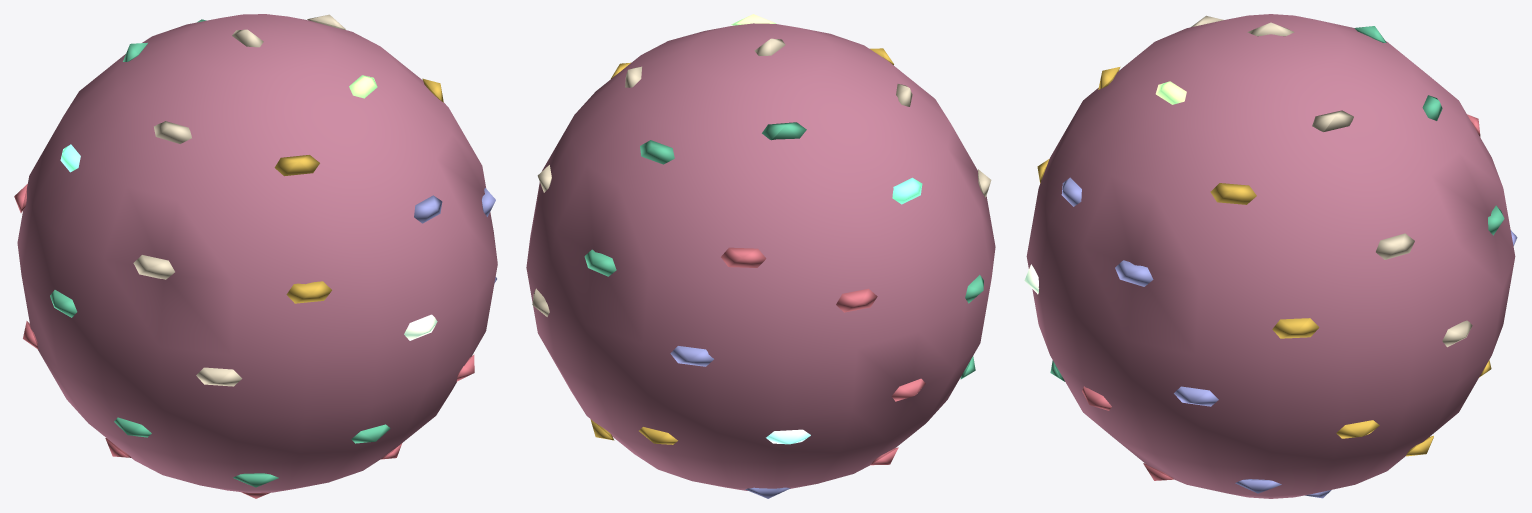
The model's file is special_sprinkle_ball.glb.
3 renders of one model, left to right at view 1: azimuth 30°, elevation 25°; view 2: azimuth 150°, elevation 25°; view 3: azimuth 270°, elevation 25°, orthographic. The views are drawn at different scales.
Parts seen in each view (by area): view 1: Fondant ball; view 2: Fondant ball; view 3: Fondant ball.
Boxes of the visible parts, x1=… form: Fondant ball: x1=14, y1=14, x2=497, y2=498; Fondant ball: x1=526, y1=14, x2=995, y2=498; Fondant ball: x1=1024, y1=14, x2=1517, y2=498.
Size of the model in its own units: 1.09 by 1.09 by 1.08.
